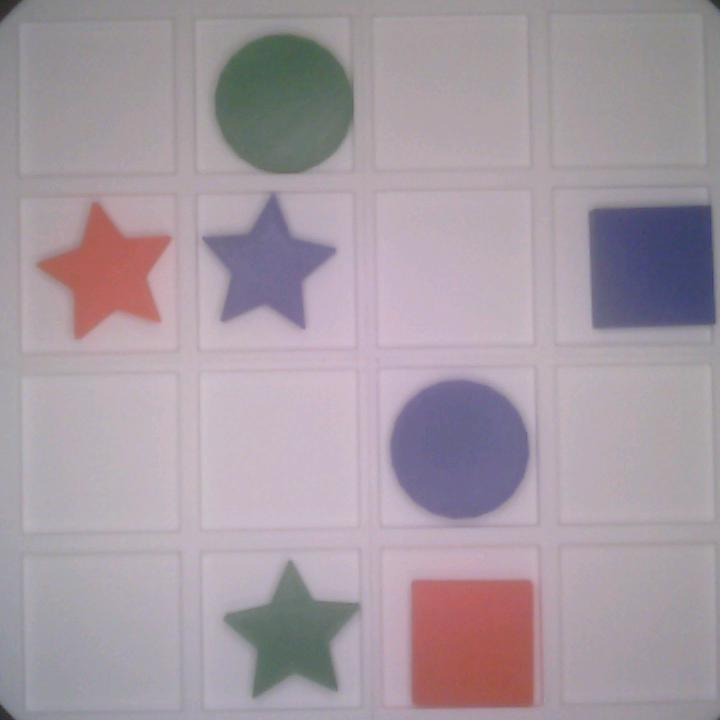Blue circle: (389, 381, 524, 518)
Blue square: (590, 206, 720, 333)
Blue star: (194, 193, 340, 333)
Green circle: (212, 29, 355, 169)
Green star: (215, 557, 360, 701)
Orange square: (403, 573, 541, 711)
Orange star: (34, 202, 173, 340)
